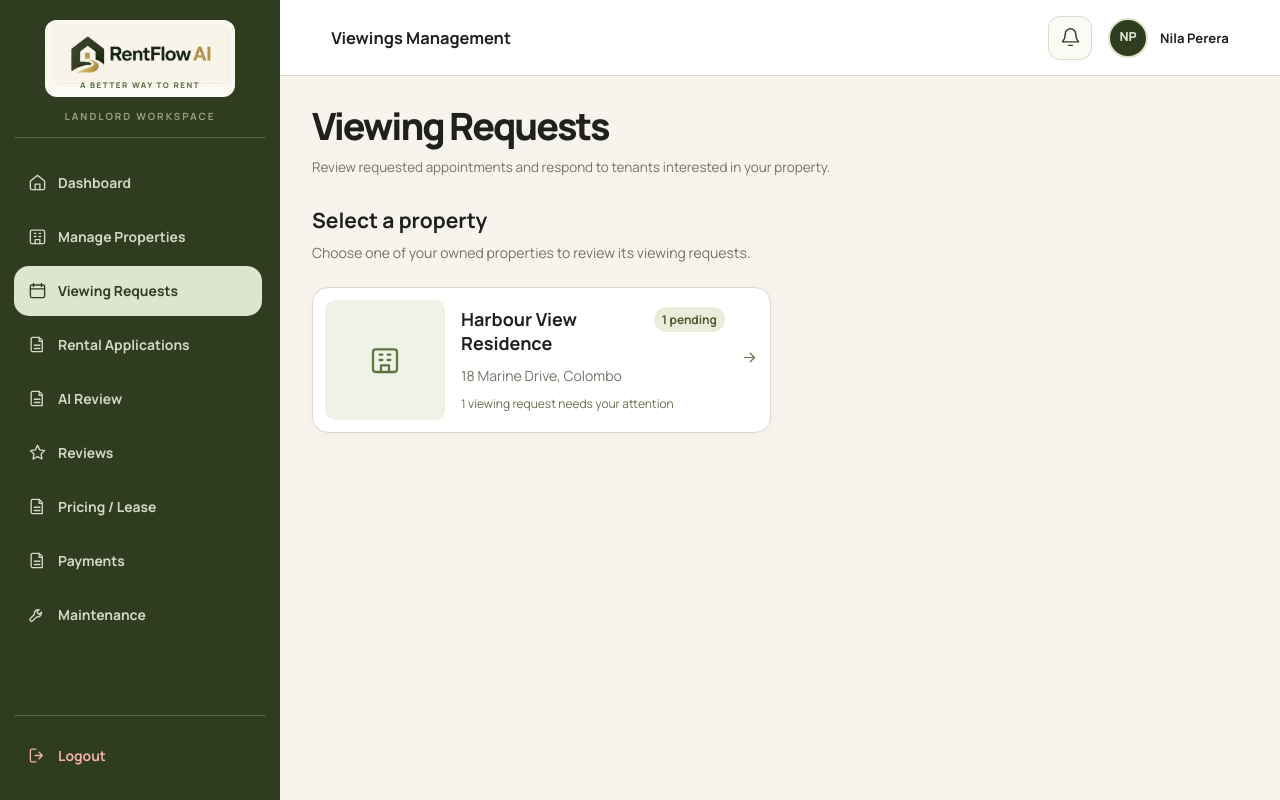
owned property landlord workflow integration › selects from the authenticated collection and opens canonical viewing requests with property display data
Click the button with aria-label "Harbour View Residence, 1 pending viewing request" at (385, 360), box [312,287,771,433]
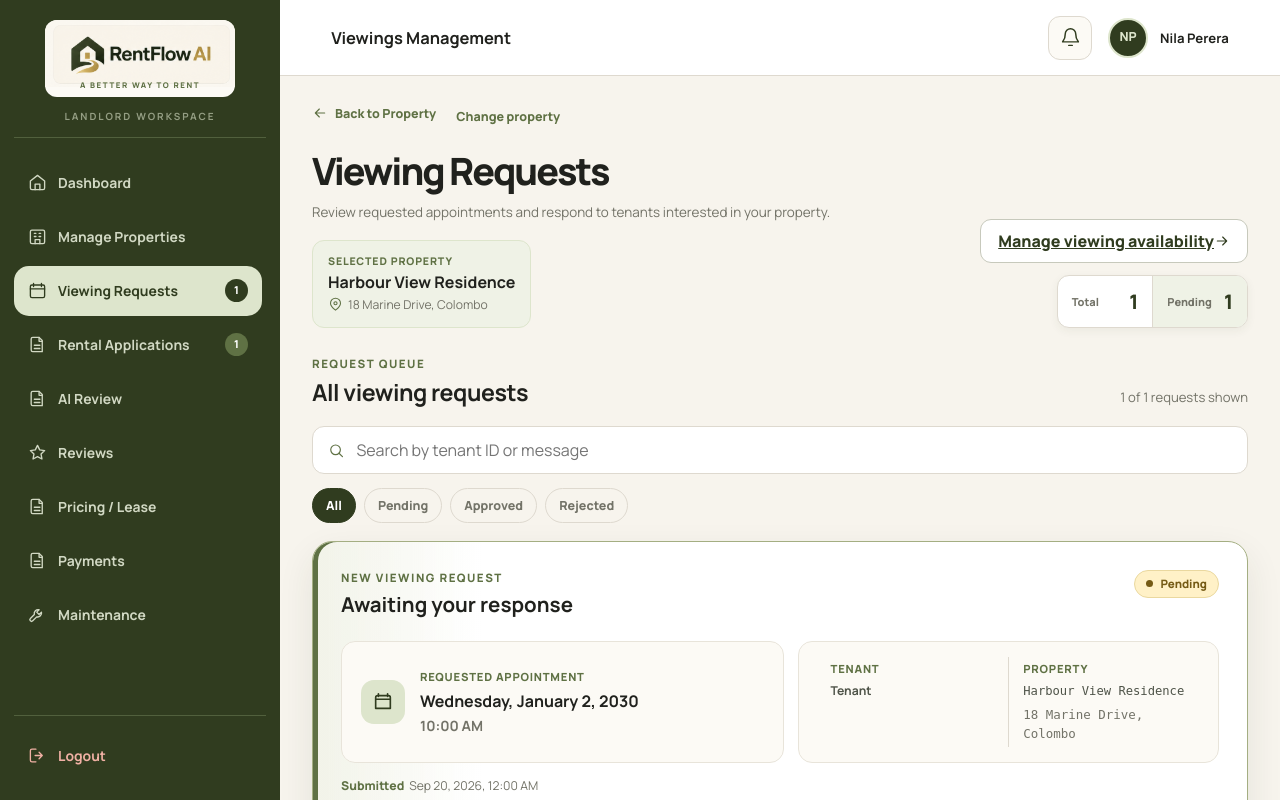
Expected: the text "Harbour View Residence" is shown, [328,272,515,294]
Expected: the text "18 Marine Drive, Colombo" is shown, [328,296,515,314]
